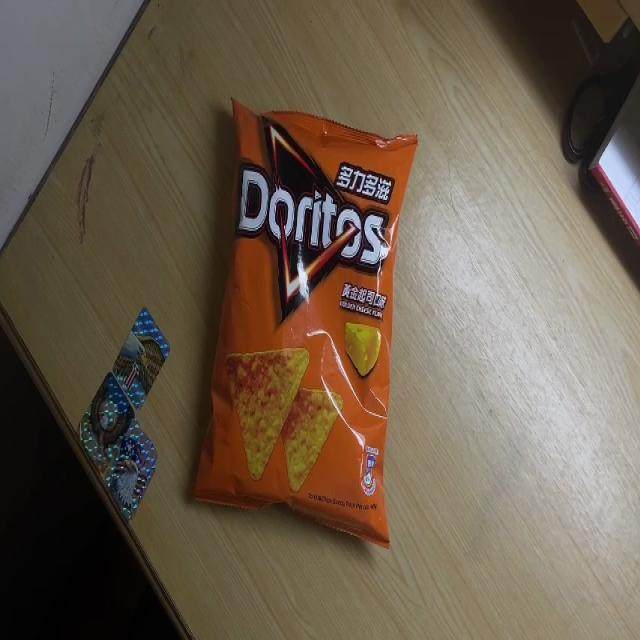Doritos: (188, 94, 419, 552)
